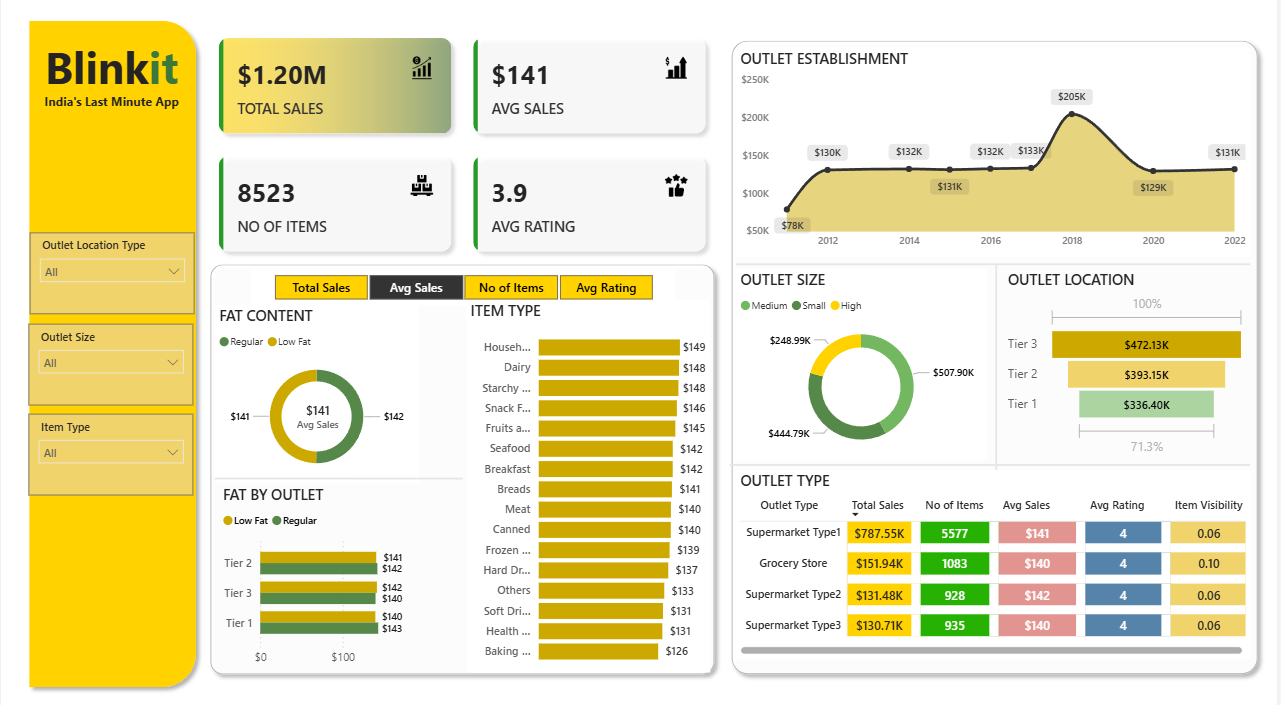

This screenshot's page, from the dashboard's own definition file:
{"tool":"powerbi","page":{"name":"Page 1","canvas":[1400,800],"ordinal":0},"visuals":[{"type":"shape","box":[21.4,24.1,201.1,749.3],"z":0},{"type":"textbox","box":[30.8,46.9,182.3,99.2],"z":1000},{"type":"textbox","box":[41.6,108.6,160.9,37.5],"z":2000},{"type":"cardVisual","fields":{"Data":["BlinkIT Grocery Data.Total Sales","BlinkIT Grocery Data.Avg Sales","BlinkIT Grocery Data.No of Items","BlinkIT Grocery Data.Avg Rating"]},"box":[222.5,36.2,569.7,269.4],"z":3000},{"type":"shape","box":[221.2,292.2,571,467.8],"z":4000},{"type":"donutChart","title":"FAT CONTENT","fields":{"Y":["BlinkIT Grocery Data.Avg Sales"],"Category":["BlinkIT Grocery Data.Item Fat Content"]},"box":[234.6,345.8,223.9,195.7],"z":5000},{"type":"slicer","fields":{"Values":["Metrics.Metrics"]},"box":[274.8,305.6,465.1,40.2],"z":6000},{"type":"cardVisual","fields":{"Data":["BlinkIT Grocery Data.Avg Sales"]},"box":[303,434.3,89.8,60.3],"z":7000},{"type":"clusteredBarChart","title":"FAT BY OUTLET","fields":{"Y":["BlinkIT Grocery Data.Avg Sales"],"Series":["BlinkIT Grocery Data.Item Fat Content"],"Category":["BlinkIT Grocery Data.Outlet Location Type"]},"box":[238.6,541.6,219.8,207.8],"z":8000},{"type":"shape","box":[234.6,526.8,272.1,18.8],"z":9000},{"type":"shape","box":[494.6,340.5,32.2,408.8],"z":10000},{"type":"barChart","title":"ITEM TYPE","fields":{"Y":["BlinkIT Grocery Data.Avg Sales"],"Category":["BlinkIT Grocery Data.Item Type"]},"box":[510.7,340.5,268.1,408.8],"z":11000},{"type":"shape","box":[792.2,46.9,595.2,713.1],"z":12000},{"type":"lineChart","title":"OUTLET ESTABLISHMENT","fields":{"Category":["BlinkIT Grocery Data.Outlet Establishment Year"],"Y":["BlinkIT Grocery Data.Total Sales"]},"box":[807,63,564.3,229.2],"z":13000},{"type":"shape","box":[807,296.2,564.3,9.4],"z":14000},{"type":"donutChart","title":"OUTLET SIZE","fields":{"Category":["BlinkIT Grocery Data.Outlet Size"],"Y":["BlinkIT Grocery Data.Total Sales"]},"box":[807,305.6,274.8,210.5],"z":15000},{"type":"shape","box":[1073.7,301.6,36.2,234.6],"z":16000},{"type":"funnel","title":"OUTLET LOCATION","fields":{"Category":["BlinkIT Grocery Data.Outlet Location Type"],"Y":["BlinkIT Grocery Data.Total Sales"]},"box":[1100.5,305.6,270.8,210.5],"z":17000},{"type":"shape","box":[800.3,516.1,571,10.7],"z":18000},{"type":"pivotTable","title":"OUTLET TYPE","fields":{"Rows":["BlinkIT Grocery Data.Outlet Type"],"Values":["BlinkIT Grocery Data.Total Sales","BlinkIT Grocery Data.No of Items","BlinkIT Grocery Data.Avg Sales","BlinkIT Grocery Data.Avg Rating","Avg(BlinkIT Grocery Data.Item Visibility)"]},"box":[807,526.8,564.3,207.8],"z":19000},{"type":"slicer","fields":{"Values":["BlinkIT Grocery Data.Outlet Location Type"]},"box":[32.2,266.8,181,89.8],"z":20000},{"type":"slicer","fields":{"Values":["BlinkIT Grocery Data.Outlet Size"]},"box":[30.8,366,181,89.8],"z":20001},{"type":"slicer","fields":{"Values":["BlinkIT Grocery Data.Item Type"]},"box":[30.8,465.1,181,89.8],"z":20002}]}

Visuals, with their boxes on the page's 1400x800 design canvas (x1, y1, x2, y2). These are canvas units, not pixel positions in the 1281x705 screenshot, which may show the page scaled, cropped or inside an application window:
shape: [left=21, top=24, right=222, bottom=773]
textbox: [left=31, top=47, right=213, bottom=146]
textbox: [left=42, top=109, right=202, bottom=146]
cardVisual - BlinkIT Grocery Data.Total Sales x BlinkIT Grocery Data.Avg Sales: [left=222, top=36, right=792, bottom=306]
shape: [left=221, top=292, right=792, bottom=760]
"FAT CONTENT" donutChart: [left=235, top=346, right=458, bottom=542]
slicer - Metrics.Metrics: [left=275, top=306, right=740, bottom=346]
cardVisual - BlinkIT Grocery Data.Avg Sales: [left=303, top=434, right=393, bottom=495]
"FAT BY OUTLET" clusteredBarChart: [left=239, top=542, right=458, bottom=749]
shape: [left=235, top=527, right=507, bottom=546]
shape: [left=495, top=340, right=527, bottom=749]
"ITEM TYPE" barChart: [left=511, top=340, right=779, bottom=749]
shape: [left=792, top=47, right=1387, bottom=760]
"OUTLET ESTABLISHMENT" lineChart: [left=807, top=63, right=1371, bottom=292]
shape: [left=807, top=296, right=1371, bottom=306]
"OUTLET SIZE" donutChart: [left=807, top=306, right=1082, bottom=516]
shape: [left=1074, top=302, right=1110, bottom=536]
"OUTLET LOCATION" funnel: [left=1100, top=306, right=1371, bottom=516]
shape: [left=800, top=516, right=1371, bottom=527]
"OUTLET TYPE" pivotTable: [left=807, top=527, right=1371, bottom=735]
slicer - BlinkIT Grocery Data.Outlet Location Type: [left=32, top=267, right=213, bottom=357]
slicer - BlinkIT Grocery Data.Outlet Size: [left=31, top=366, right=212, bottom=456]
slicer - BlinkIT Grocery Data.Item Type: [left=31, top=465, right=212, bottom=555]
